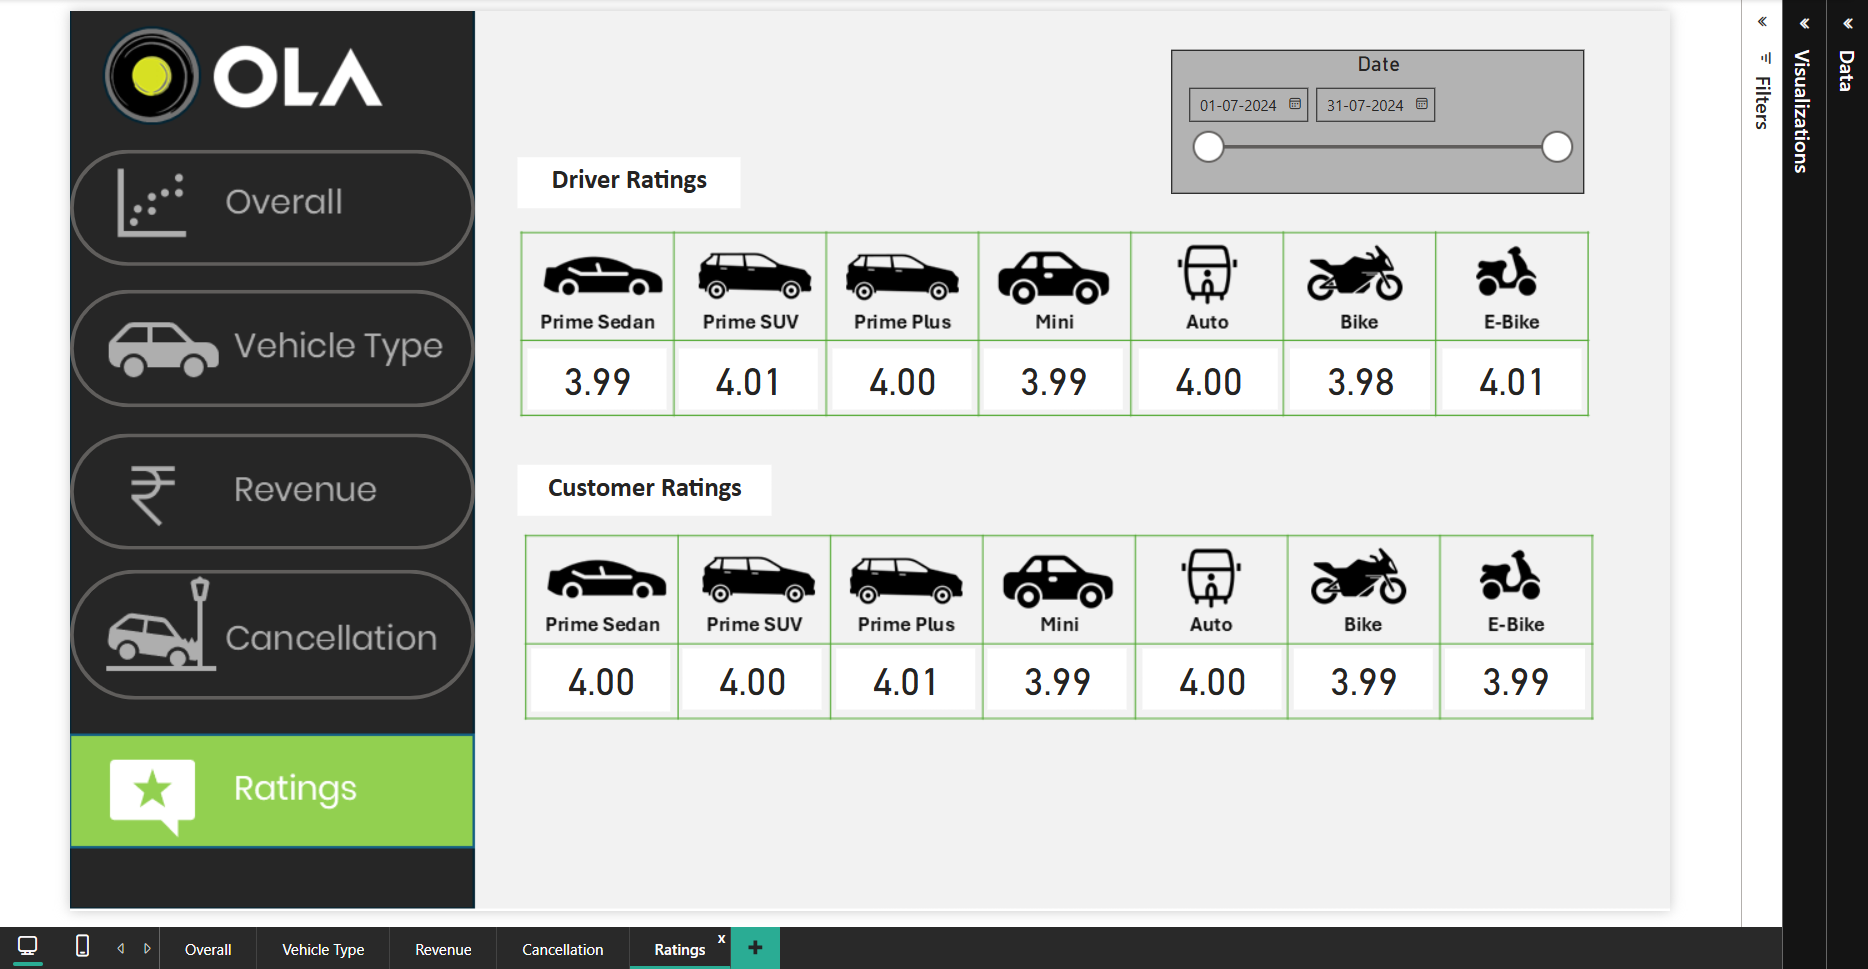

The page's visual inventory and layout, read from the dashboard file:
{"tool":"powerbi","page":{"name":"Ratings","canvas":[1280,720],"ordinal":4},"visuals":[{"type":"actionButton","box":[0,223.3,324.4,93.3],"z":0},{"type":"actionButton","box":[0,111.1,324.4,93.3],"z":1000},{"type":"actionButton","box":[0,337.8,324.4,93.3],"z":2000},{"type":"actionButton","box":[0,446.7,324.4,104.4],"z":3000},{"type":"card","fields":{"Values":["Avg(Bookings-100000-Rows.Driver_Ratings)"]},"box":[366,270,111,49.3],"z":3001},{"type":"card","fields":{"Values":["Avg(Bookings-100000-Rows.Driver_Ratings)"]},"box":[487.2,270,111.2,49.2],"z":3002},{"type":"card","fields":{"Values":["Avg(Bookings-100000-Rows.Driver_Ratings)"]},"box":[610,270,111.2,49.2],"z":3003},{"type":"card","fields":{"Values":["Avg(Bookings-100000-Rows.Driver_Ratings)"]},"box":[731.2,270,111.2,49.2],"z":3004},{"type":"card","fields":{"Values":["Avg(Bookings-100000-Rows.Driver_Ratings)"]},"box":[855.2,270,111.2,49.2],"z":3005},{"type":"card","fields":{"Values":["Avg(Bookings-100000-Rows.Driver_Ratings)"]},"box":[976.4,270,111.2,49.2],"z":3006},{"type":"card","fields":{"Values":["Avg(Bookings-100000-Rows.Driver_Ratings)"]},"box":[1097.6,270,111.2,49.2],"z":3007},{"type":"card","fields":{"Values":["Avg(Bookings-100000-Rows.Customer_Rating)"]},"box":[368.9,510.2,111,49.3],"z":3008},{"type":"card","fields":{"Values":["Avg(Bookings-100000-Rows.Customer_Rating)"]},"box":[490.1,510.2,111.2,49.2],"z":3009},{"type":"card","fields":{"Values":["Avg(Bookings-100000-Rows.Customer_Rating)"]},"box":[612.9,510.2,111.2,49.2],"z":3010},{"type":"card","fields":{"Values":["Avg(Bookings-100000-Rows.Driver_Ratings)"]},"box":[734.1,510.2,111.2,49.2],"z":3011},{"type":"card","fields":{"Values":["Avg(Bookings-100000-Rows.Customer_Rating)"]},"box":[858.1,510.2,111.2,49.2],"z":3012},{"type":"card","fields":{"Values":["Avg(Bookings-100000-Rows.Customer_Rating)"]},"box":[979.3,510.2,111.2,49.2],"z":3013},{"type":"card","fields":{"Values":["Avg(Bookings-100000-Rows.Customer_Rating)"]},"box":[1100.5,510.2,111.2,49.2],"z":3014},{"type":"textbox","box":[357.8,116.7,177.8,41.1],"z":3015},{"type":"textbox","box":[357.8,363.3,203.3,41.1],"z":3016},{"type":"slicer","title":"Date","fields":{"Values":["Bookings-100000-Rows.Date"]},"box":[881.1,31.1,330,114.4],"z":3017}]}

Visuals, with their boxes on the page's 1280x720 design canvas (x1, y1, x2, y2). These are canvas units, not pixel positions in the 1868x969 screenshot, which may show the page scaled, cropped or inside an application window:
actionButton: box=[0, 223, 324, 317]
actionButton: box=[0, 111, 324, 204]
actionButton: box=[0, 338, 324, 431]
actionButton: box=[0, 447, 324, 551]
card - Avg(Bookings-100000-Rows.Driver_Ratings): box=[366, 270, 477, 319]
card - Avg(Bookings-100000-Rows.Driver_Ratings): box=[487, 270, 598, 319]
card - Avg(Bookings-100000-Rows.Driver_Ratings): box=[610, 270, 721, 319]
card - Avg(Bookings-100000-Rows.Driver_Ratings): box=[731, 270, 842, 319]
card - Avg(Bookings-100000-Rows.Driver_Ratings): box=[855, 270, 966, 319]
card - Avg(Bookings-100000-Rows.Driver_Ratings): box=[976, 270, 1088, 319]
card - Avg(Bookings-100000-Rows.Driver_Ratings): box=[1098, 270, 1209, 319]
card - Avg(Bookings-100000-Rows.Customer_Rating): box=[369, 510, 480, 560]
card - Avg(Bookings-100000-Rows.Customer_Rating): box=[490, 510, 601, 559]
card - Avg(Bookings-100000-Rows.Customer_Rating): box=[613, 510, 724, 559]
card - Avg(Bookings-100000-Rows.Driver_Ratings): box=[734, 510, 845, 559]
card - Avg(Bookings-100000-Rows.Customer_Rating): box=[858, 510, 969, 559]
card - Avg(Bookings-100000-Rows.Customer_Rating): box=[979, 510, 1090, 559]
card - Avg(Bookings-100000-Rows.Customer_Rating): box=[1100, 510, 1212, 559]
textbox: box=[358, 117, 536, 158]
textbox: box=[358, 363, 561, 404]
"Date" slicer: box=[881, 31, 1211, 146]
